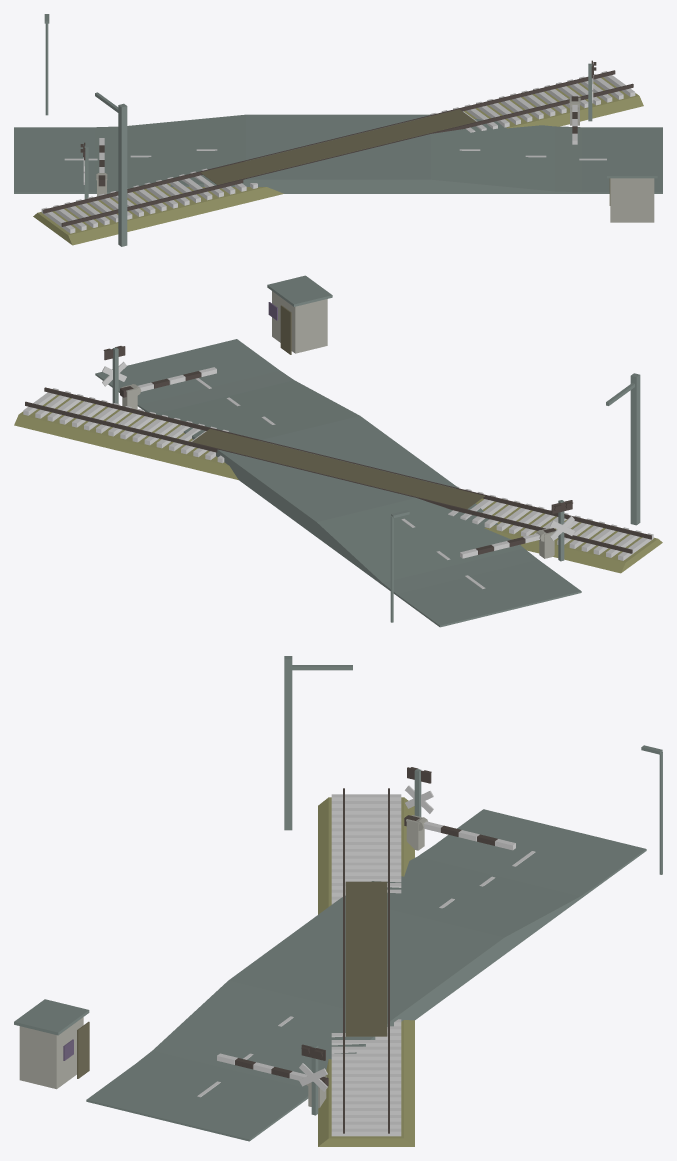
Rendered from SM_PasoNivel_30_v4_Catenaria_LOD0.fbx.
3 views of the same model, one above another, from view 1: azimuth 30°, elevation 25°; view 2: azimuth 150°, elevation 25°; view 3: azimuth 270°, elevation 25° (orthographic). The views are drawn at different scales.
Parts seen in each view (by area): view 1: SM_paso_nivel_kit_v19_LOD0; view 2: SM_paso_nivel_kit_v19_LOD0, Barrera_1, Barrera_2; view 3: SM_paso_nivel_kit_v19_LOD0, Barrera_2, Barrera_1.
Part boxes in pixels (x1,y1,x2,y2): SM_paso_nivel_kit_v19_LOD0: (14, 14, 662, 246); SM_paso_nivel_kit_v19_LOD0: (14, 275, 662, 627); Barrera_1: (120, 367, 216, 397); Barrera_2: (460, 528, 555, 558); SM_paso_nivel_kit_v19_LOD0: (14, 656, 662, 1146); Barrera_2: (404, 815, 515, 850); Barrera_1: (217, 1053, 328, 1086).
Size of the model in its own units: 30 by 7 by 24.12.
